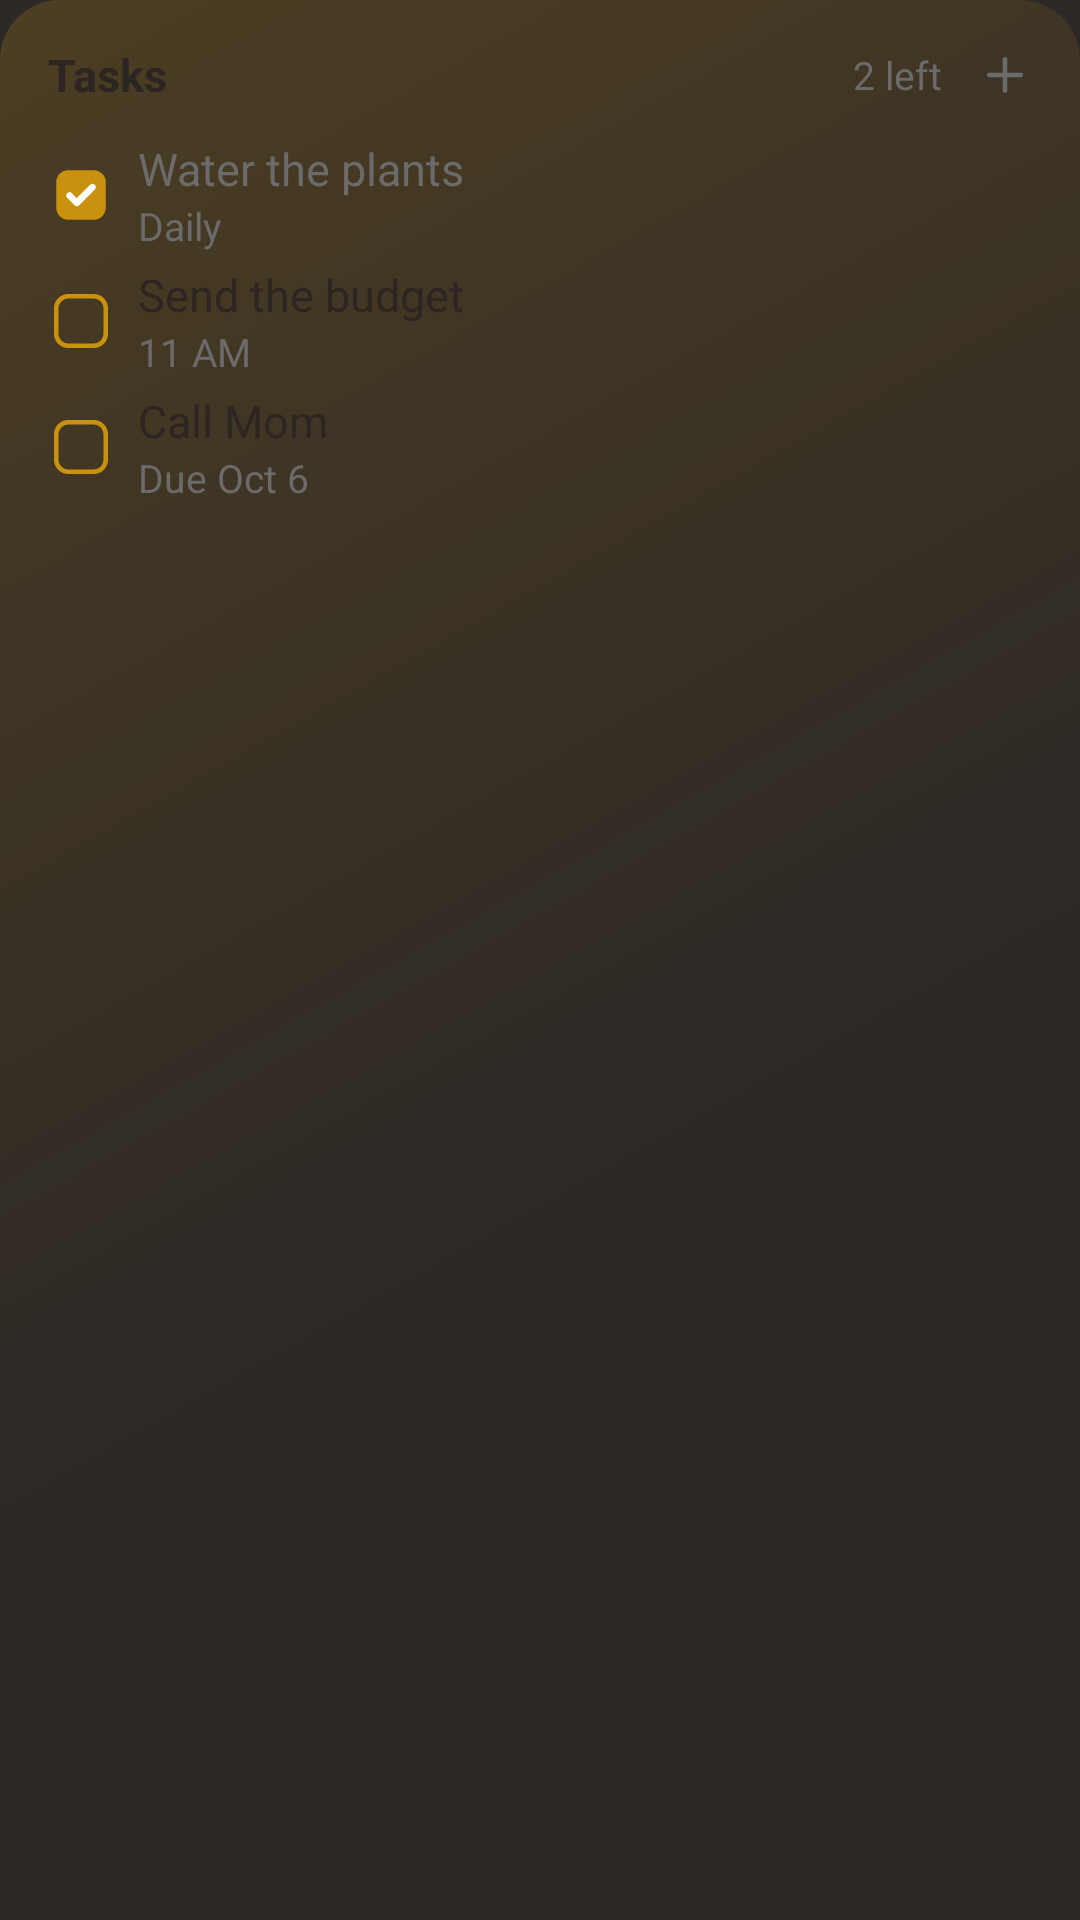

Where icons sit on this 1080*1920 app screen, as Rect(x1, y1, x2, y2):
plus: Rect(987, 57, 1023, 93)
